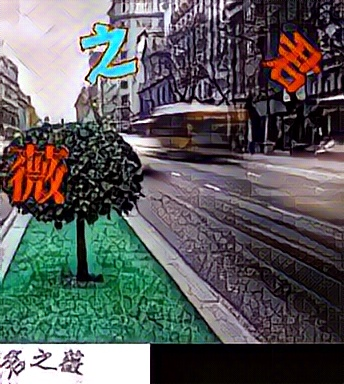BEFD: (259, 29, 321, 93)
D6AE: (78, 20, 140, 84)
DEB1: (6, 140, 68, 204)
